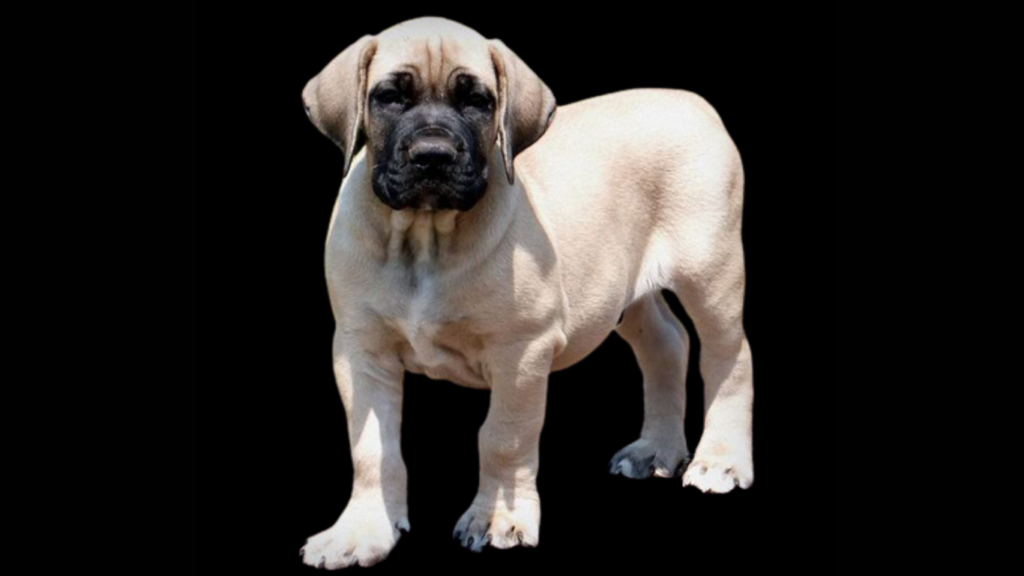Dog: (273, 12, 790, 574)
